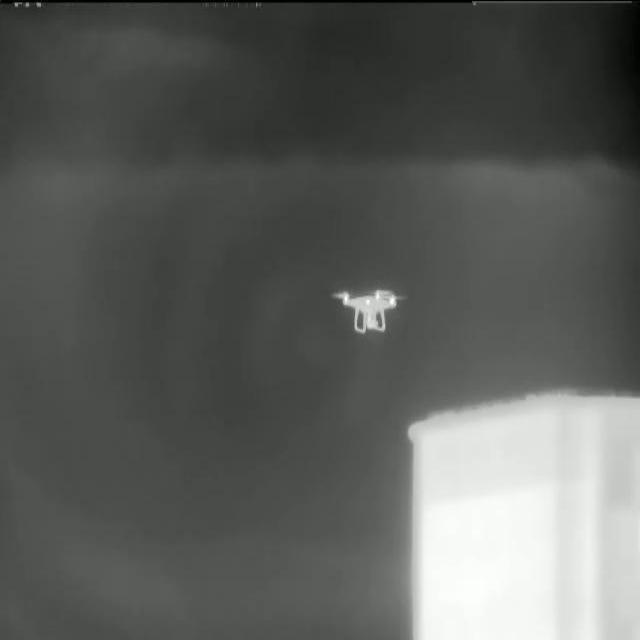DRONE: (329, 284, 406, 334)
